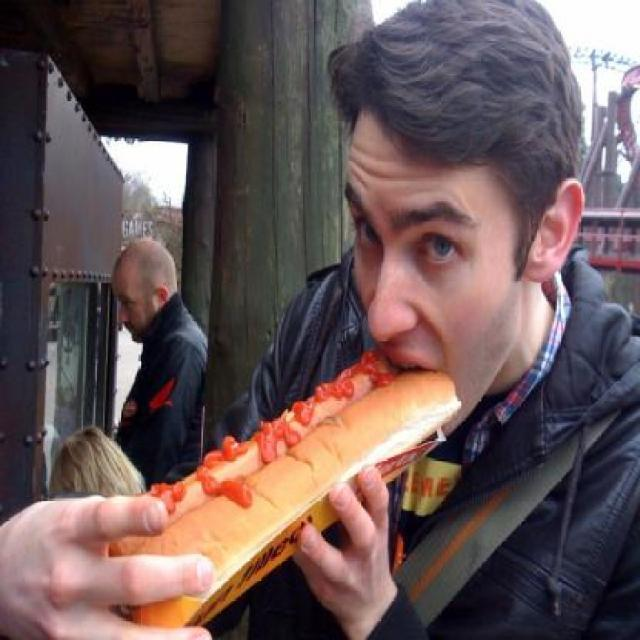Hot dog: (106, 342, 468, 630)
